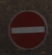No entry: (6, 6, 47, 50)
